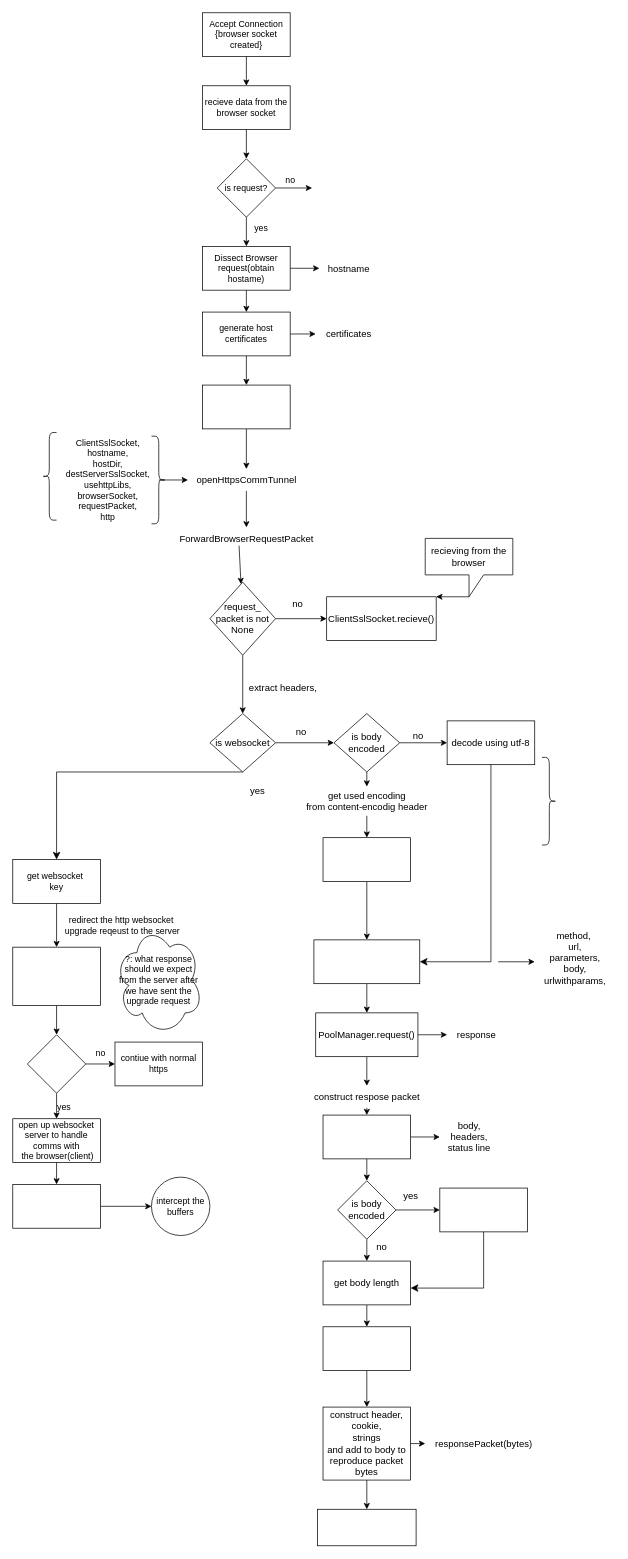
This 628x1559 diagram has some shape labels left out. The centre of each missing label's shape, as x and y in pixels:
ClientSslSocket.send(): the point at 366,1527
connect the recieving and sending buffers of the server to the client: the point at 56,1206
decode the body using the obtained encoding format: the point at 366,859
DissectBrowserReqPkt: the point at 366,961
get body, headers, construct status line: the point at 366,1136
get encoding scheme from headers and decode: the point at 483,1209
is success: the point at 56,1063
open up websocket client to handle communications with the server: the point at 56,976
replace transfer-encoding header with contet-length: the point at 366,1348
upgrade browser socket to ssl: the point at 246,406
